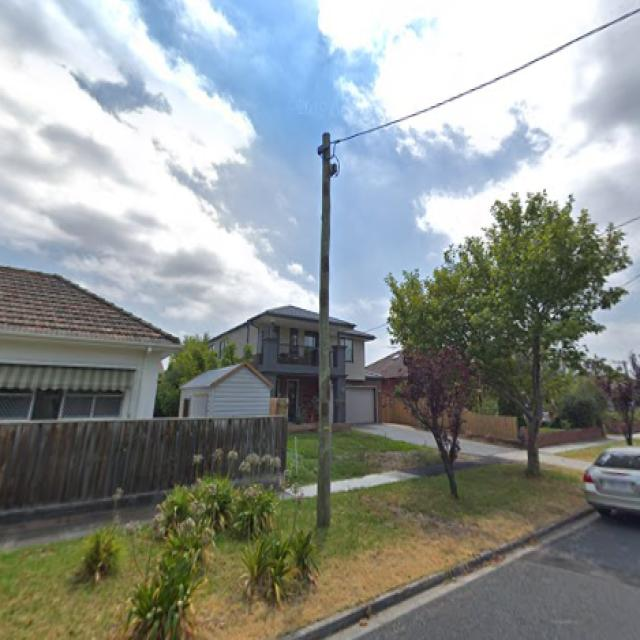timber-pole: (316, 132, 332, 529)
